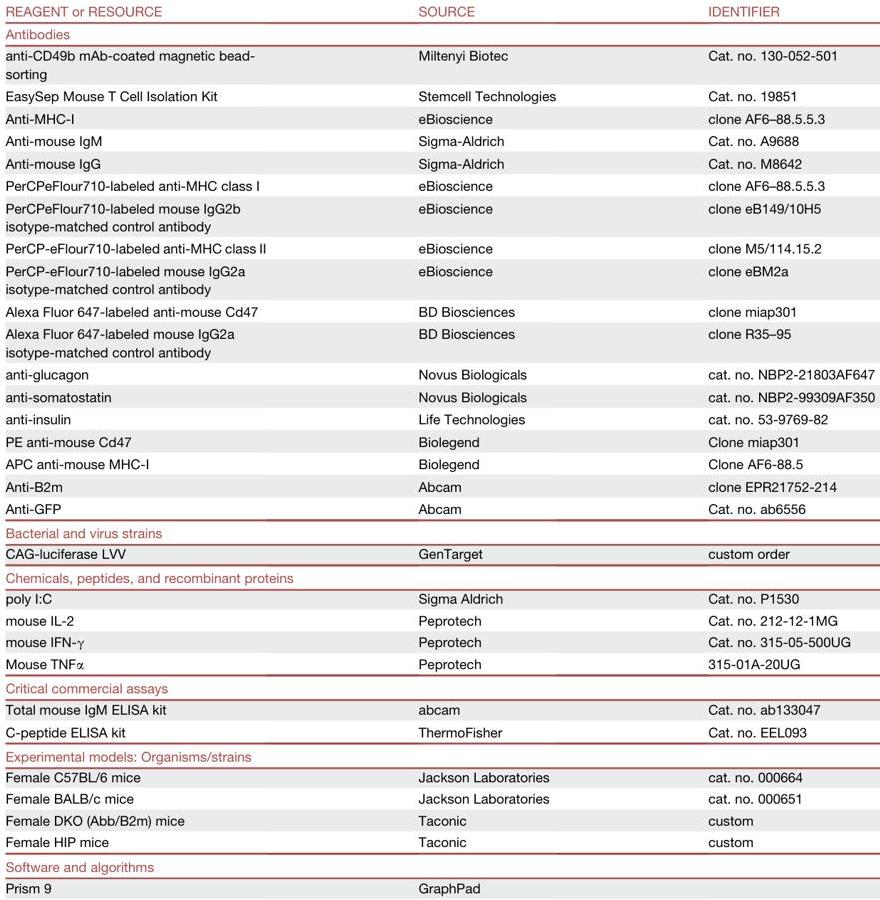table: (4, 5, 874, 895)
table column: (4, 5, 341, 895), (341, 5, 631, 895), (631, 5, 874, 895)
table column header: (4, 5, 874, 23)
table projected row header: (4, 521, 874, 544), (4, 566, 874, 589), (4, 744, 874, 767), (4, 854, 874, 877), (4, 23, 874, 45), (4, 677, 874, 699)
table row: (4, 45, 874, 85), (4, 197, 874, 237), (4, 260, 874, 300), (4, 323, 874, 363), (4, 107, 874, 130), (4, 174, 874, 197), (4, 237, 874, 260), (4, 300, 874, 323), (4, 363, 874, 386), (4, 408, 874, 431), (4, 475, 874, 498), (4, 498, 874, 521), (4, 521, 874, 544), (4, 566, 874, 589), (4, 631, 874, 654), (4, 654, 874, 677), (4, 721, 874, 744), (4, 744, 874, 767), (4, 831, 874, 854), (4, 854, 874, 877), (4, 23, 874, 45), (4, 85, 874, 107), (4, 130, 874, 152), (4, 152, 874, 174), (4, 386, 874, 408), (4, 431, 874, 453), (4, 453, 874, 475), (4, 544, 874, 566), (4, 677, 874, 699), (4, 699, 874, 721), (4, 788, 874, 810), (4, 589, 874, 610), (4, 610, 874, 631), (4, 767, 874, 788), (4, 810, 874, 831), (4, 5, 874, 23), (4, 877, 874, 895)
